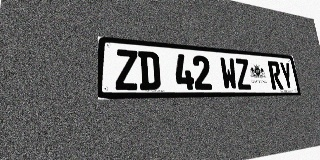2: (192, 55, 212, 90)
4: (174, 53, 195, 90)
D: (138, 51, 161, 90)
R: (267, 61, 284, 89)
W: (219, 57, 238, 90)
Y: (279, 62, 295, 89)
Z: (115, 49, 139, 90), (234, 58, 252, 90)
